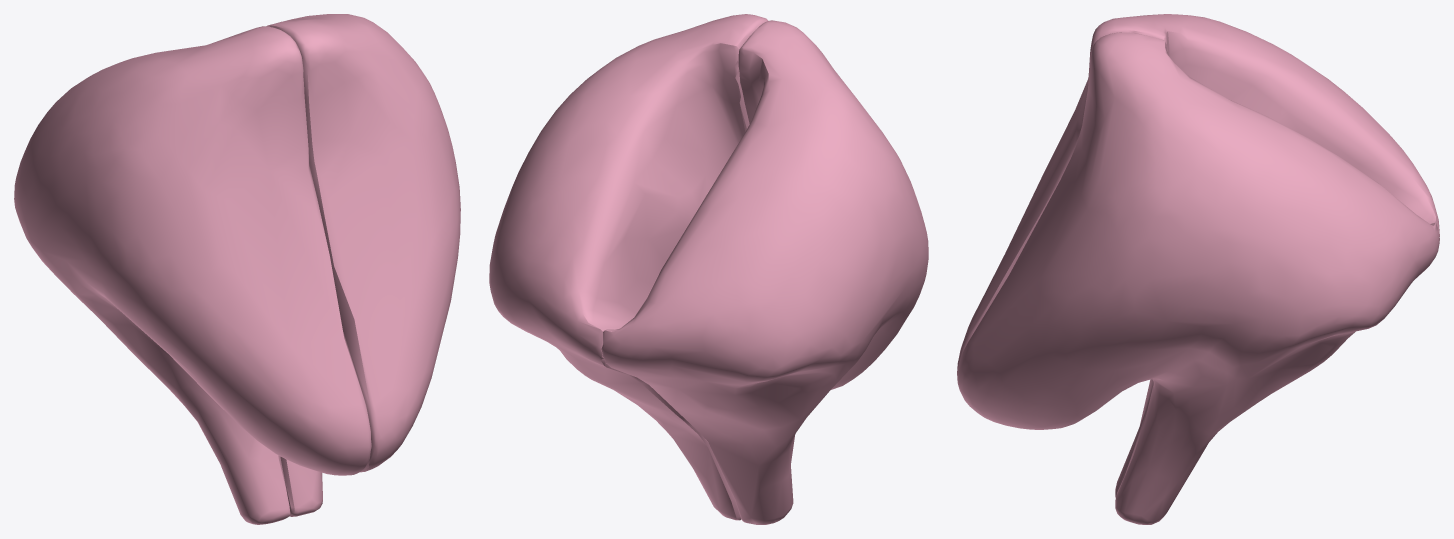
The model's file is hypothalamus.glb.
3 renders of one model, left to right at view 1: azimuth 30°, elevation 25°; view 2: azimuth 150°, elevation 25°; view 3: azimuth 270°, elevation 25°, orthographic. The views are drawn at different scales.
Parts seen in each view (by area): view 1: grp1; view 2: grp1; view 3: grp1.
Part boxes in pixels (x1,y1,x2,y2): grp1: [14, 14, 460, 524]; grp1: [489, 14, 928, 524]; grp1: [957, 14, 1439, 524].
Bounding box in the file's own units: 0.0152 × 0.0199 × 0.0179.
